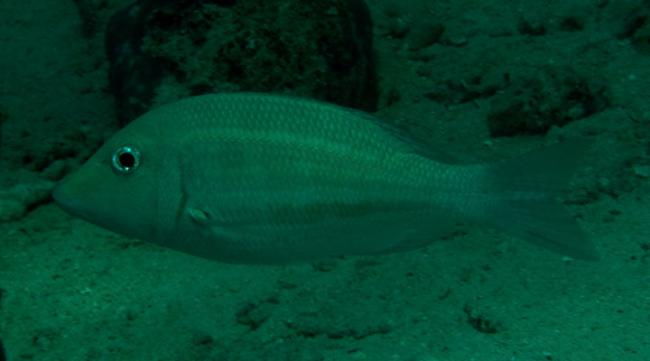fish: (51, 91, 601, 264)
